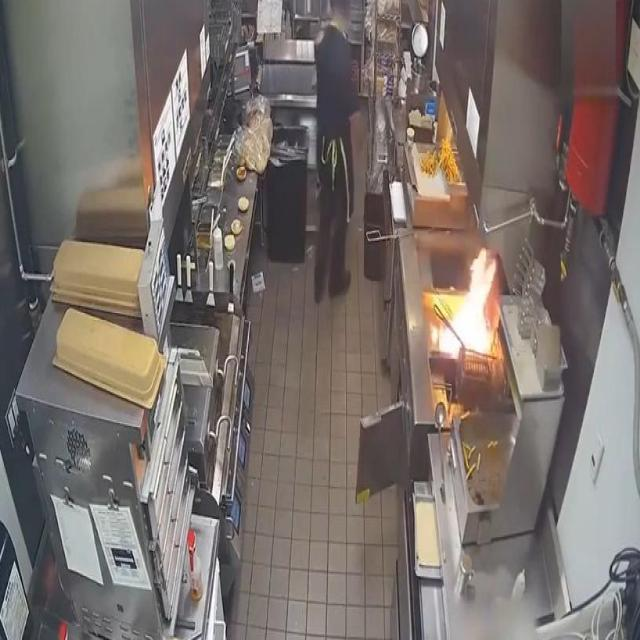smoke: (433, 241, 503, 366)
